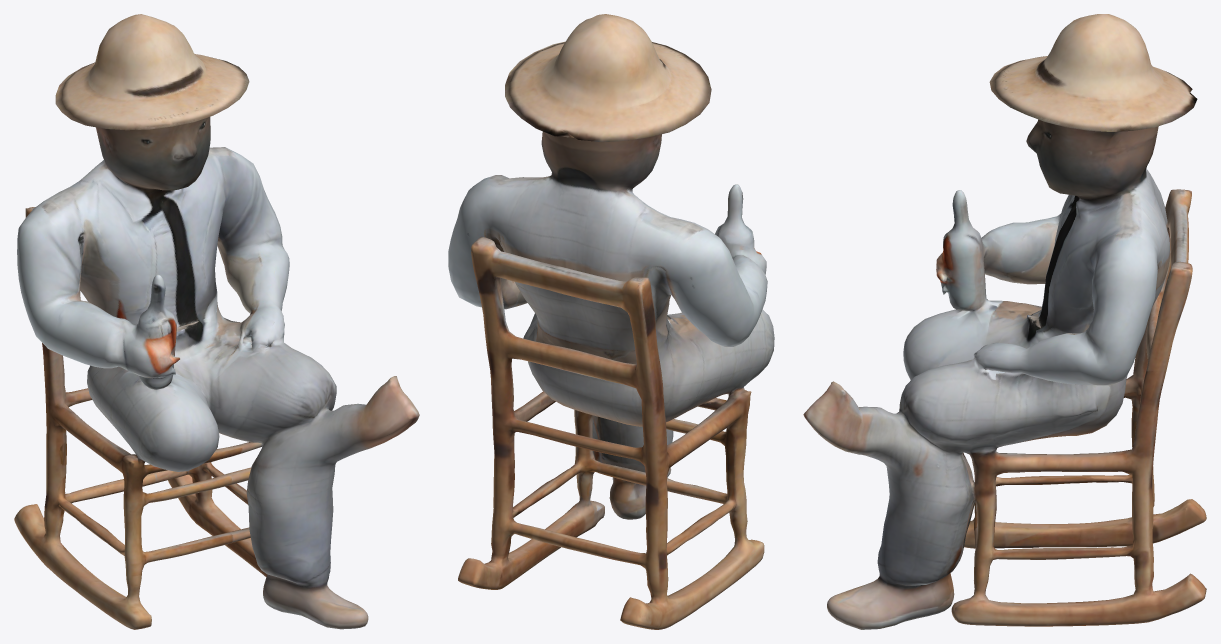
Rendered from muneco.glb.
3 renders of one model, left to right at view 1: azimuth 30°, elevation 25°; view 2: azimuth 150°, elevation 25°; view 3: azimuth 270°, elevation 25°, orthographic. The views are drawn at different scales.
Size of the model in its own units: 1.01 by 2 by 1.29.
1 material, 1 textured.
